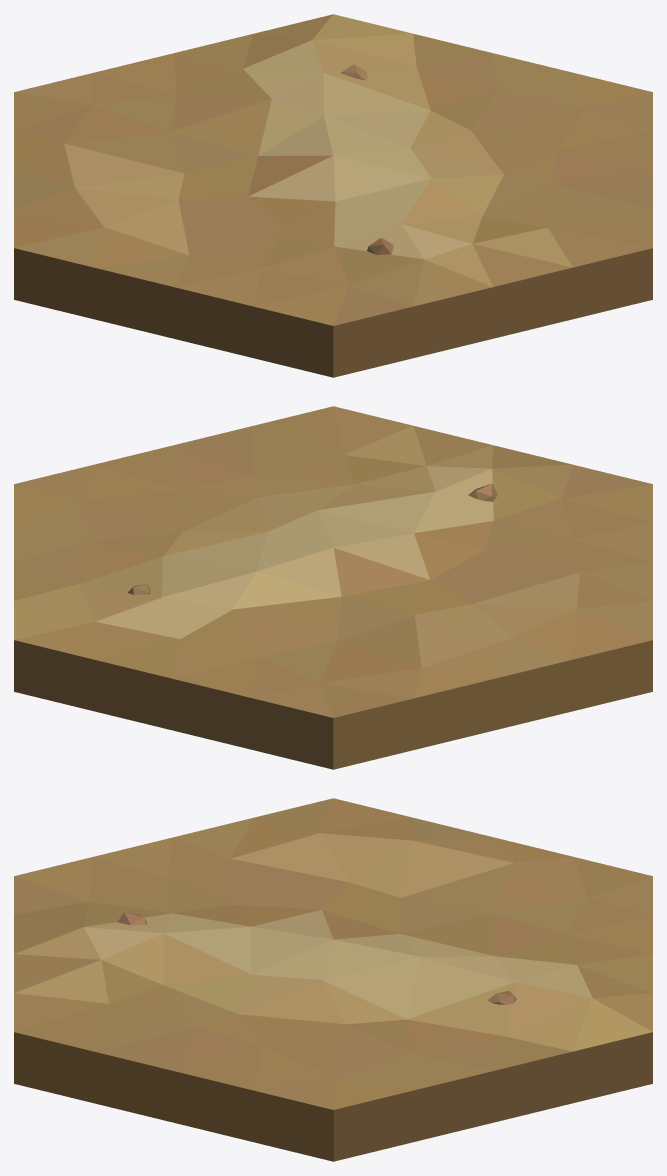
File: Desert2.glb
3 views of the same model, one above another, from view 1: azimuth 30°, elevation 25°; view 2: azimuth 150°, elevation 25°; view 3: azimuth 270°, elevation 25° (orthographic).
Visible parts, largest first — view 1: Desert2; view 2: Desert2; view 3: Desert2.
Part boxes in pixels (x1=…): Desert2: x1=14, y1=14, x2=652, y2=377; Desert2: x1=14, y1=406, x2=652, y2=769; Desert2: x1=14, y1=798, x2=652, y2=1161.
Size of the model in its own units: 1.94 by 0.195 by 1.68.
